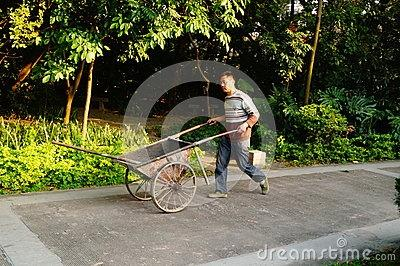not_helmet: (218, 71, 236, 94)
not_reflective: (222, 91, 261, 139)
